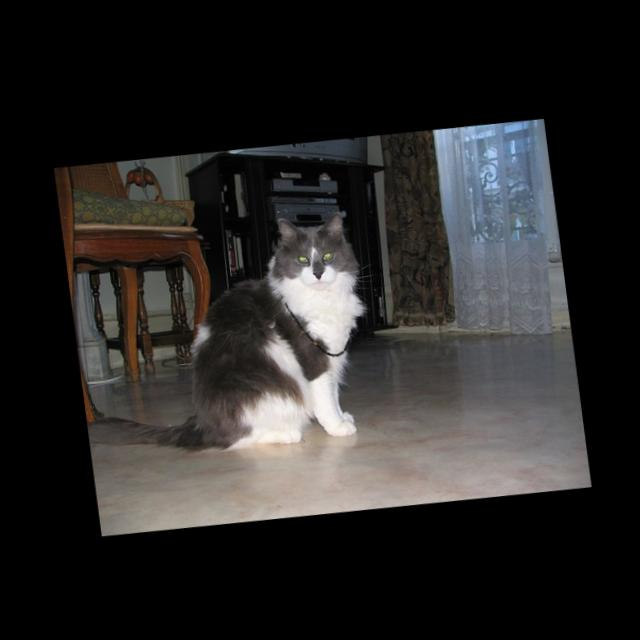animals: (280, 209, 345, 280)
